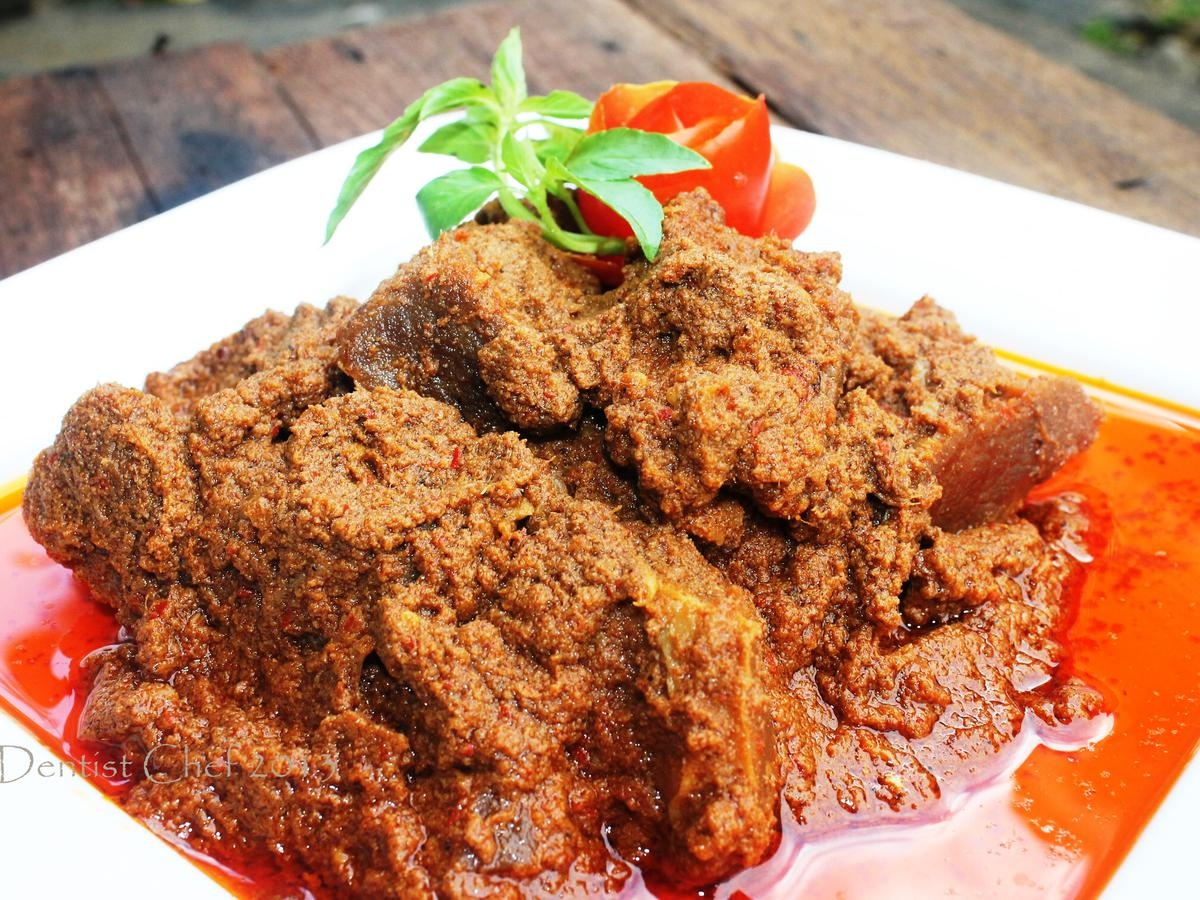rendang: (27, 249, 1059, 850)
